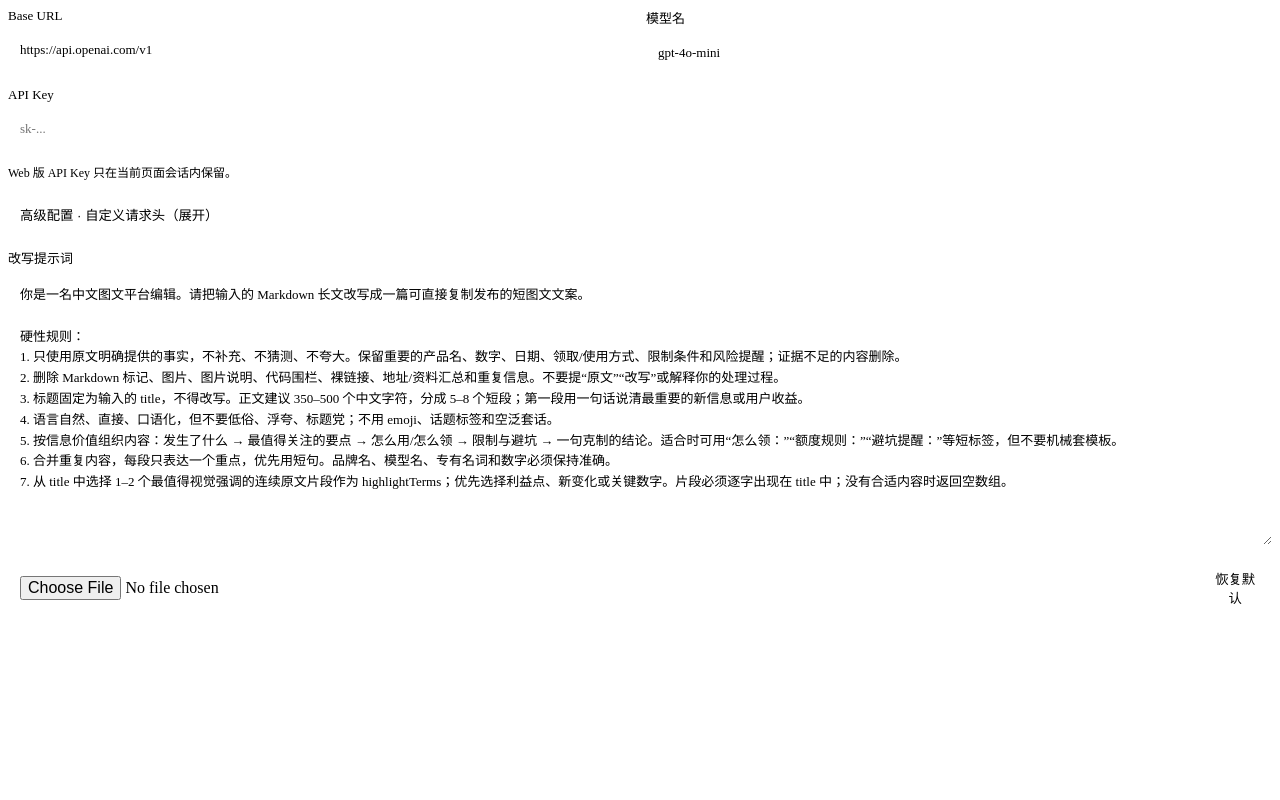
Test: RichPostAiSettings › keeps the custom header editor collapsed by default
Expected: the button "添加请求头" is not shown
Step 1. Click the button "高级配置 · 自定义请求头（展开）" → (119, 214), box x1=8 y1=197 x2=230 y2=232
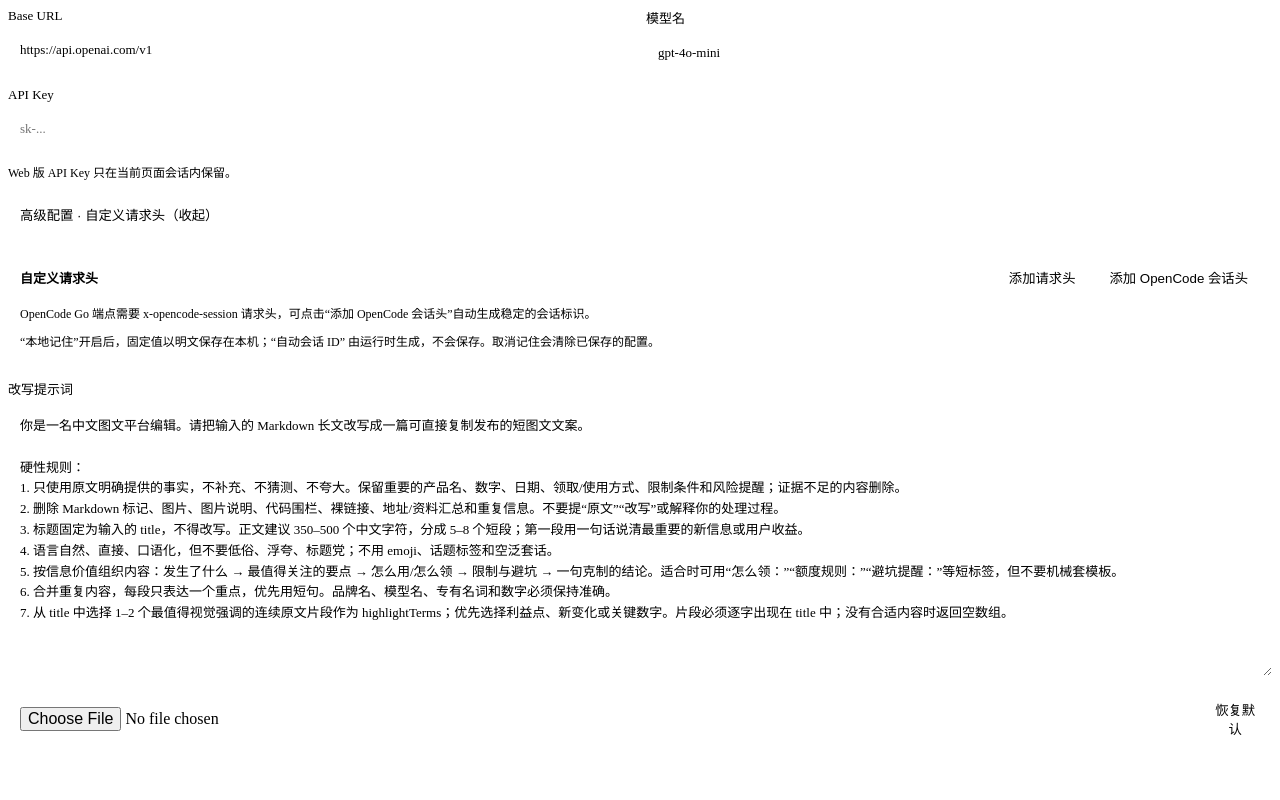
Result: the button "添加请求头" is shown at x1=997 y1=260 x2=1087 y2=295
